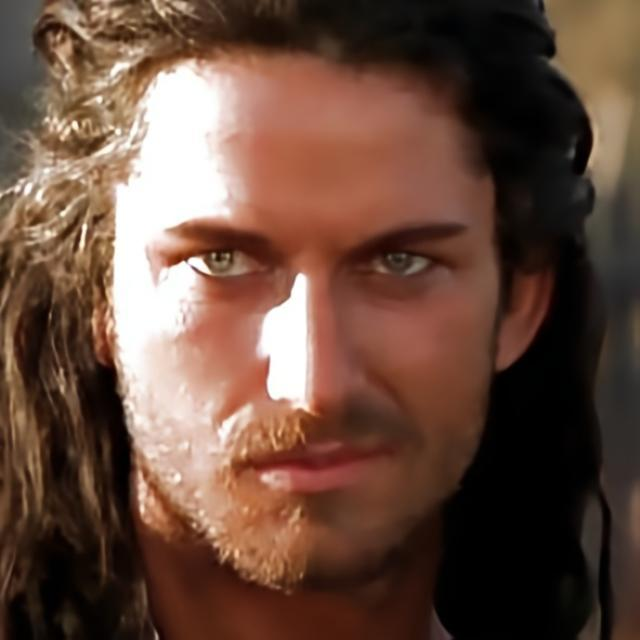anger: (112, 60, 500, 578)
